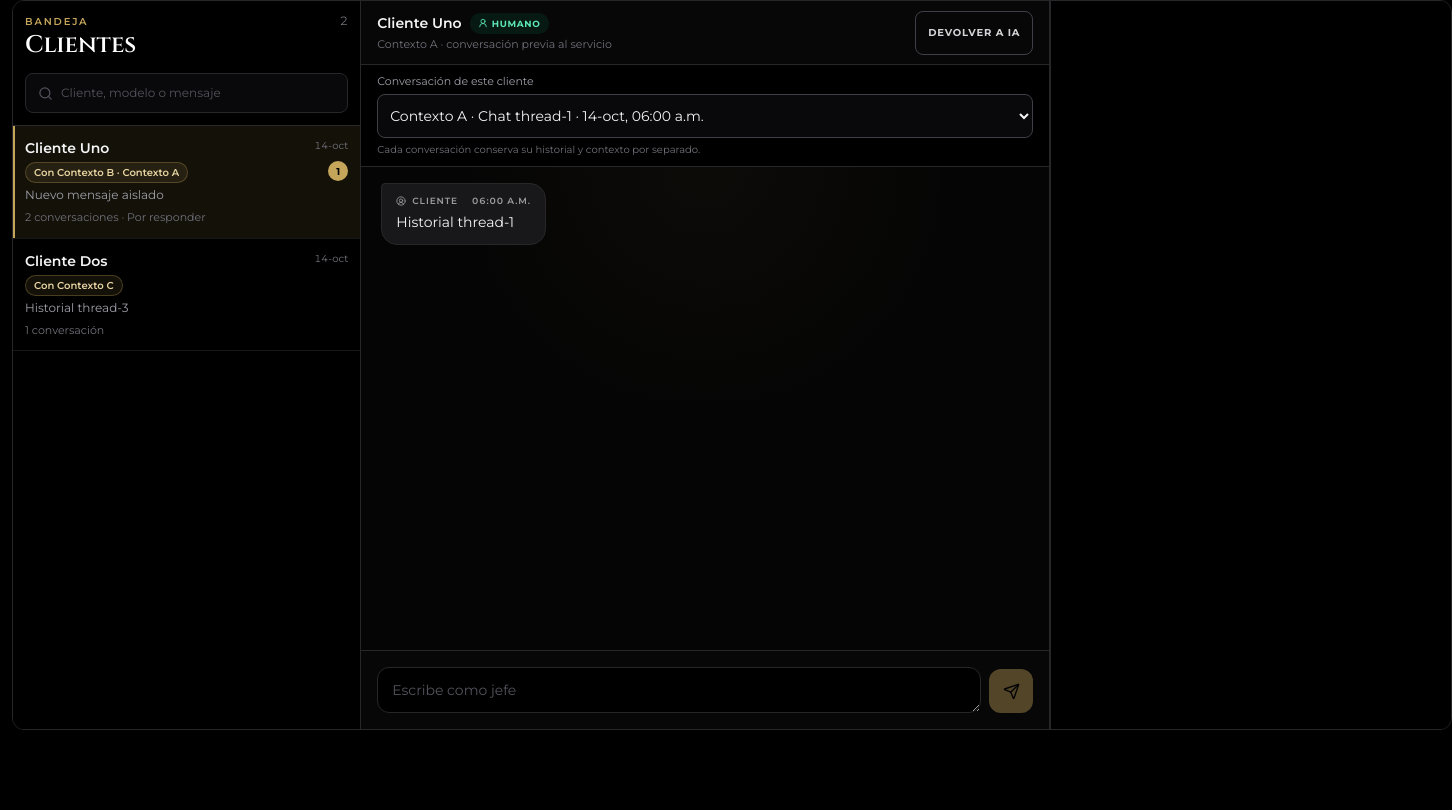
Scenario: un mensaje SSE de otro hilo no cambia el historial que se esta leyendo
Check: the text named "1 mensajes sin leer" is shown, box top-left (328, 161), bottom-right (348, 181)
Select "Contexto B · Chat thread-2 · 14-oct, 07:00 a.m. · 1 sin leer" in the dropdown labelled "Conversación de este cliente" at point(705, 116), box top-left (377, 94), bottom-right (1033, 138)
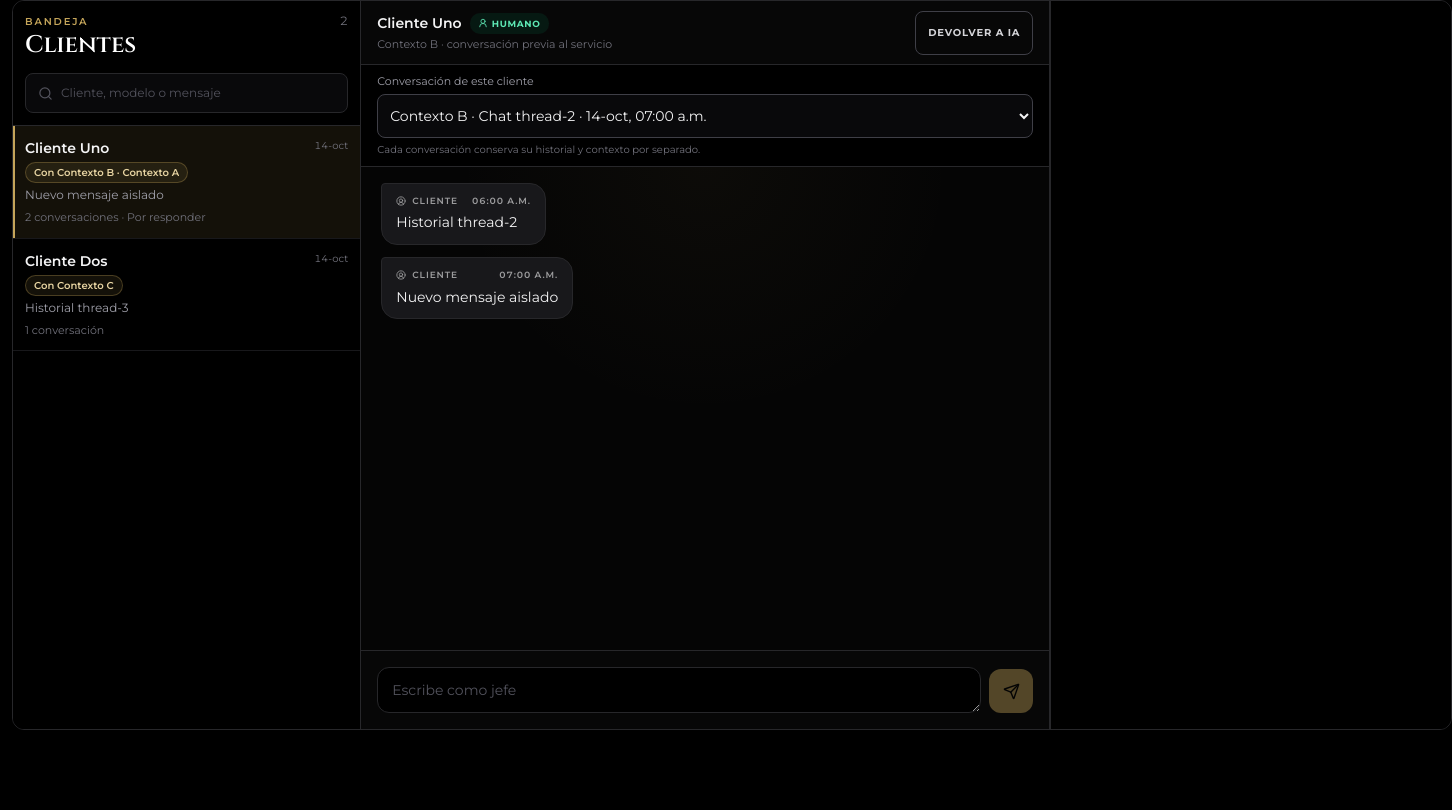
Check: the text "Nuevo mensaje aislado" below "07:00 a.m." is shown, box top-left (396, 288), bottom-right (558, 306)
